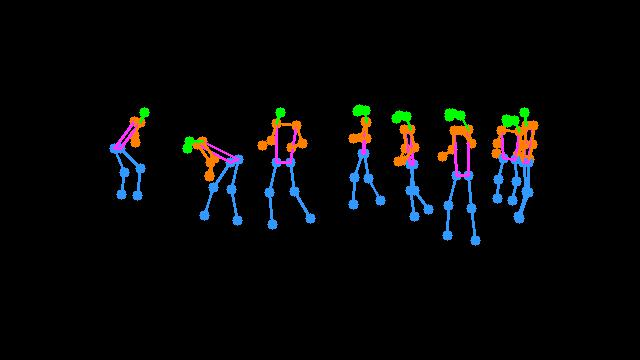normal: (247, 93, 323, 245), (428, 100, 488, 253), (96, 100, 159, 211), (338, 98, 390, 218)
